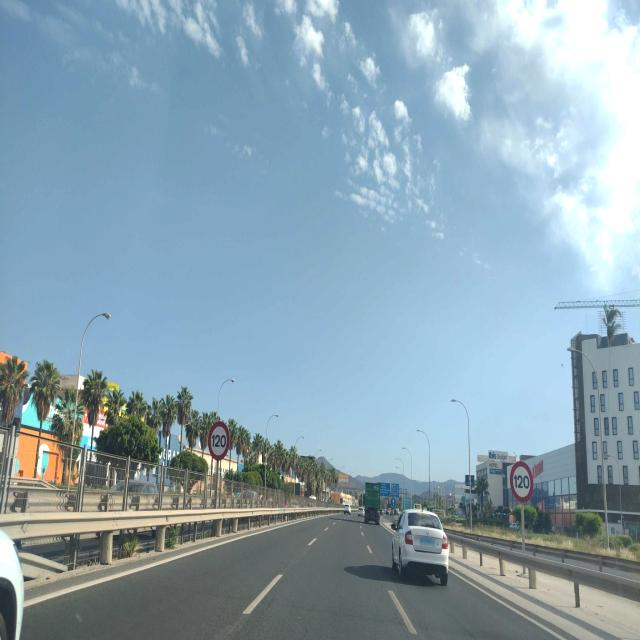car: (391, 508, 449, 585), (0, 497, 25, 640), (342, 504, 351, 514)
